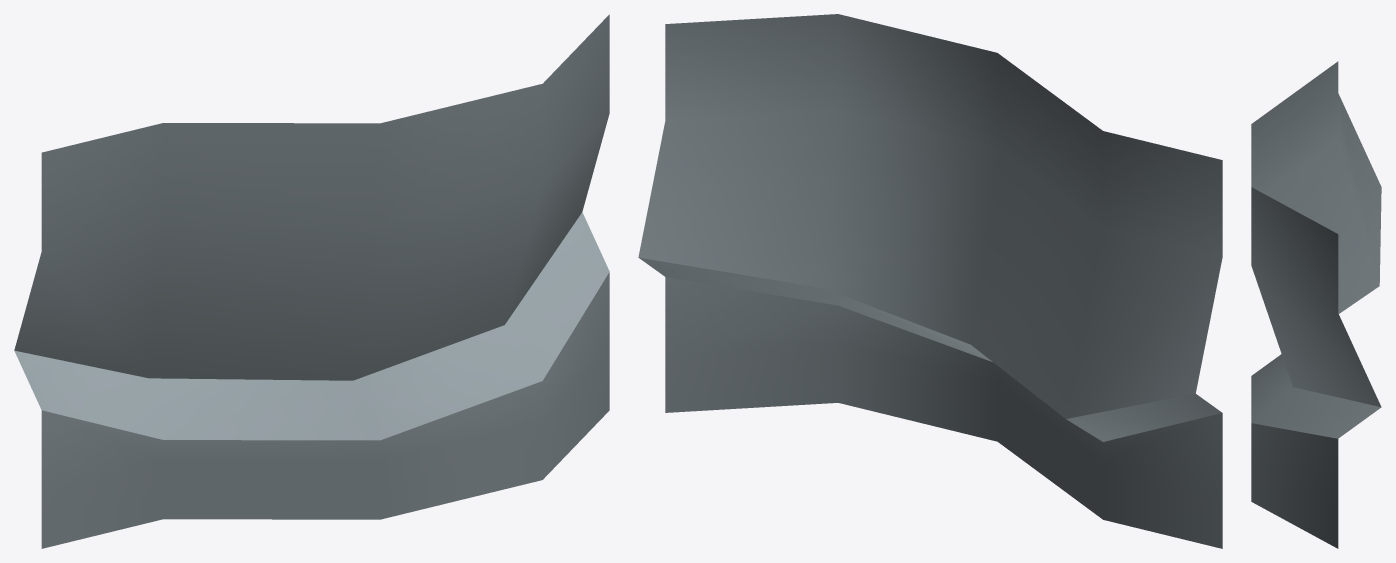
The model's file is Hill_Cliff_H_Side_Color1.fbx.
3 renders of one model, left to right at view 1: azimuth 30°, elevation 25°; view 2: azimuth 150°, elevation 25°; view 3: azimuth 270°, elevation 25°, orthographic. The views are drawn at different scales.
Parts seen in each view (by area): view 1: Hill_Cliff_H_Side_Color1; view 2: Hill_Cliff_H_Side_Color1; view 3: Hill_Cliff_H_Side_Color1.
Part boxes in pixels (x1,y1,x2,y2): Hill_Cliff_H_Side_Color1: (14, 14, 609, 548); Hill_Cliff_H_Side_Color1: (638, 14, 1222, 548); Hill_Cliff_H_Side_Color1: (1251, 61, 1381, 548).
Size of the model in its own units: 3 by 2 by 0.75.
